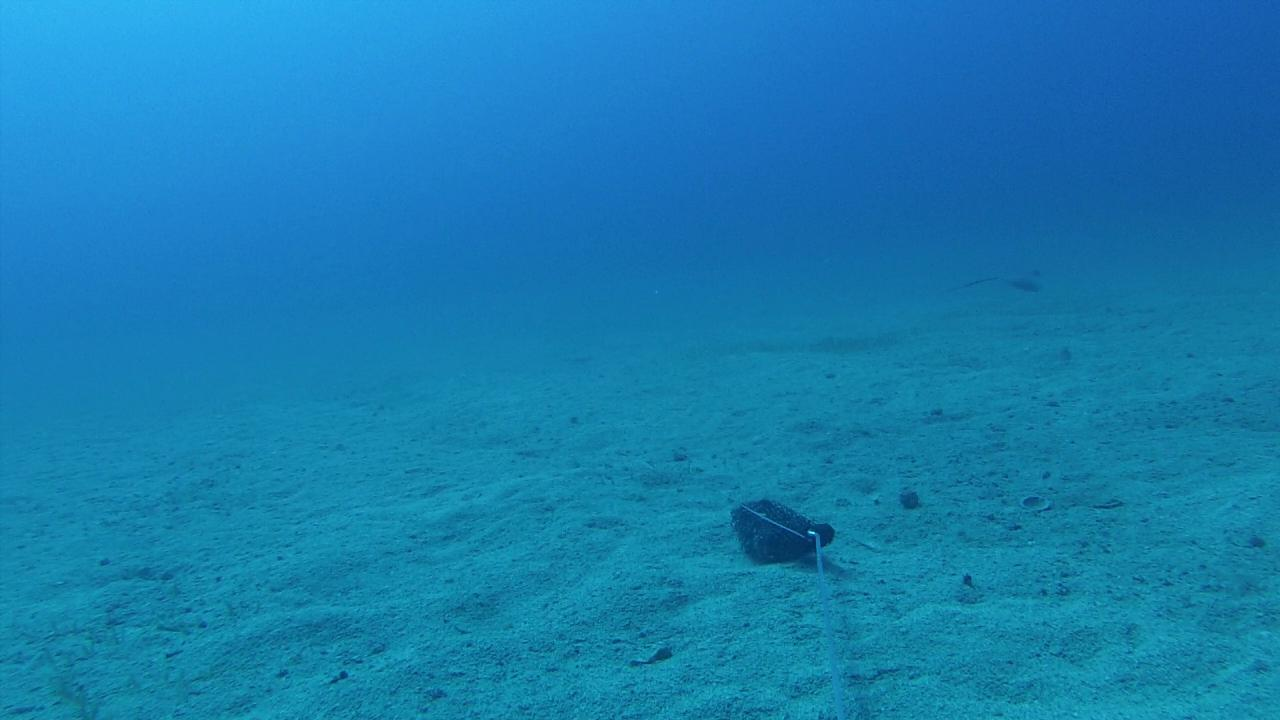dasyatis: (948, 267, 1044, 296)
